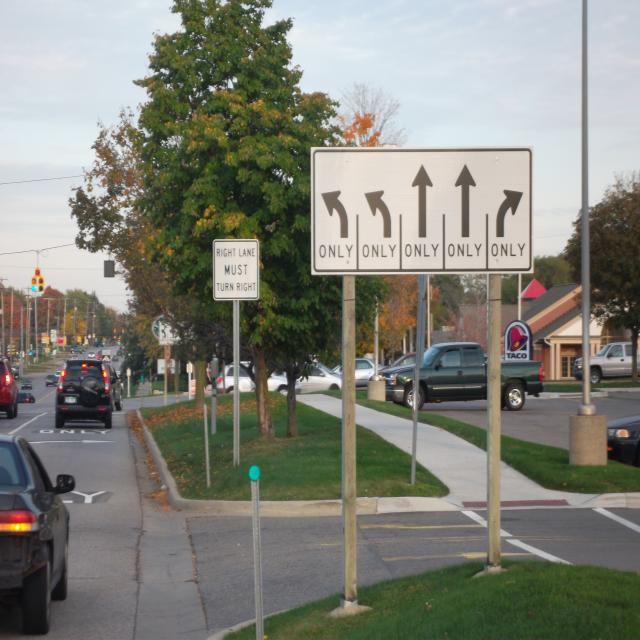regulatory: (308, 144, 536, 278), (211, 238, 262, 302), (158, 320, 196, 346)
